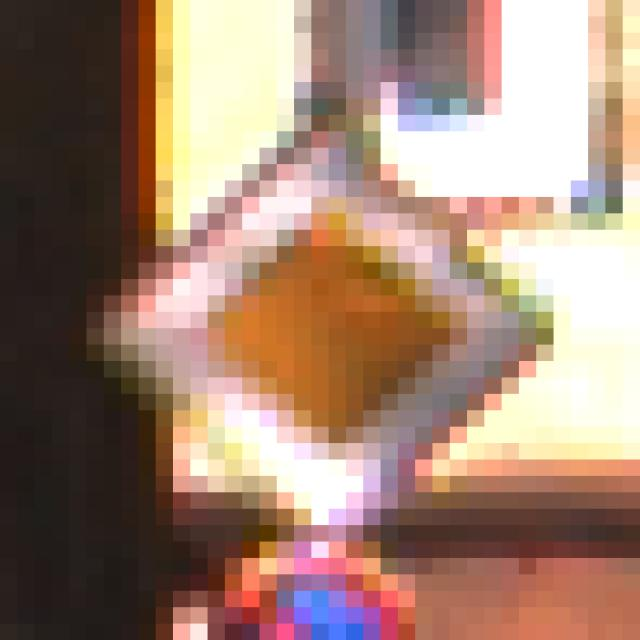Main Road: (88, 99, 555, 559)
